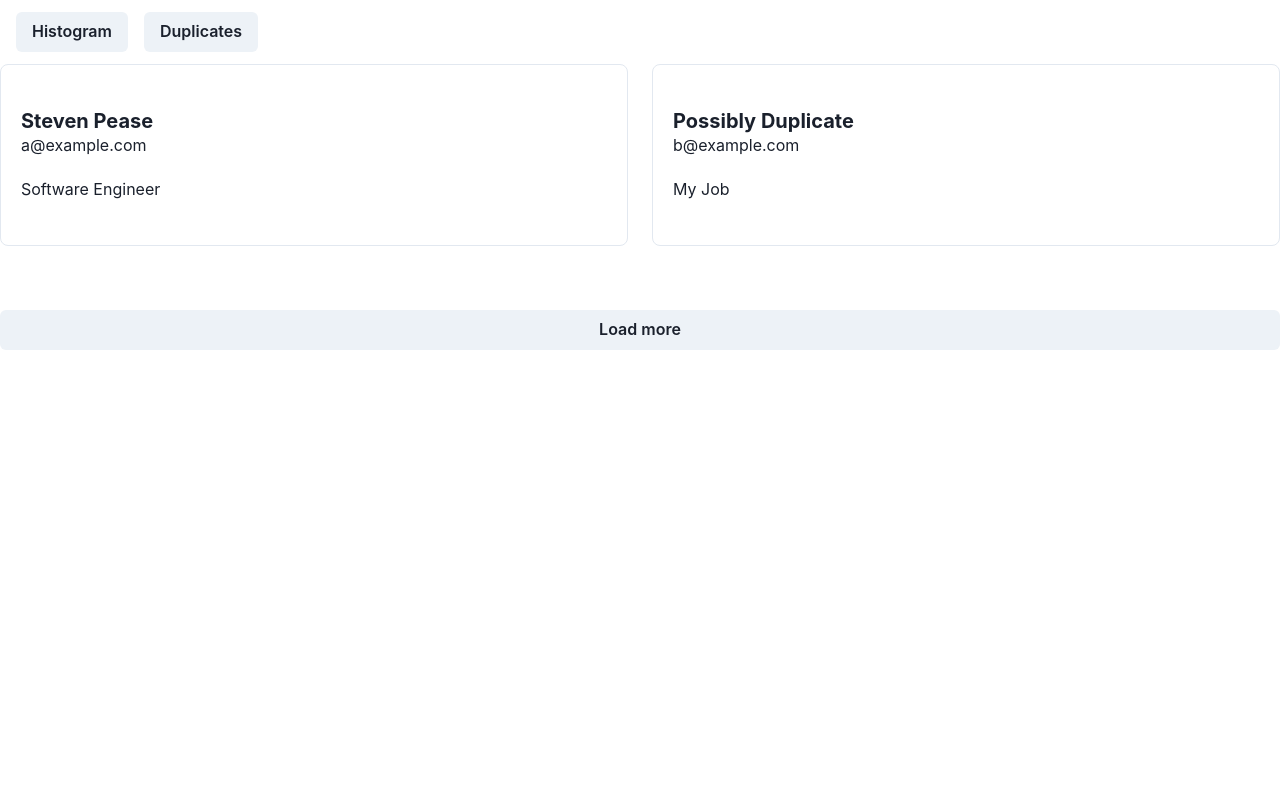
Test: App › shows duplicates
Click the button "Duplicates". click: [201, 32]
box: [144, 12, 258, 52]
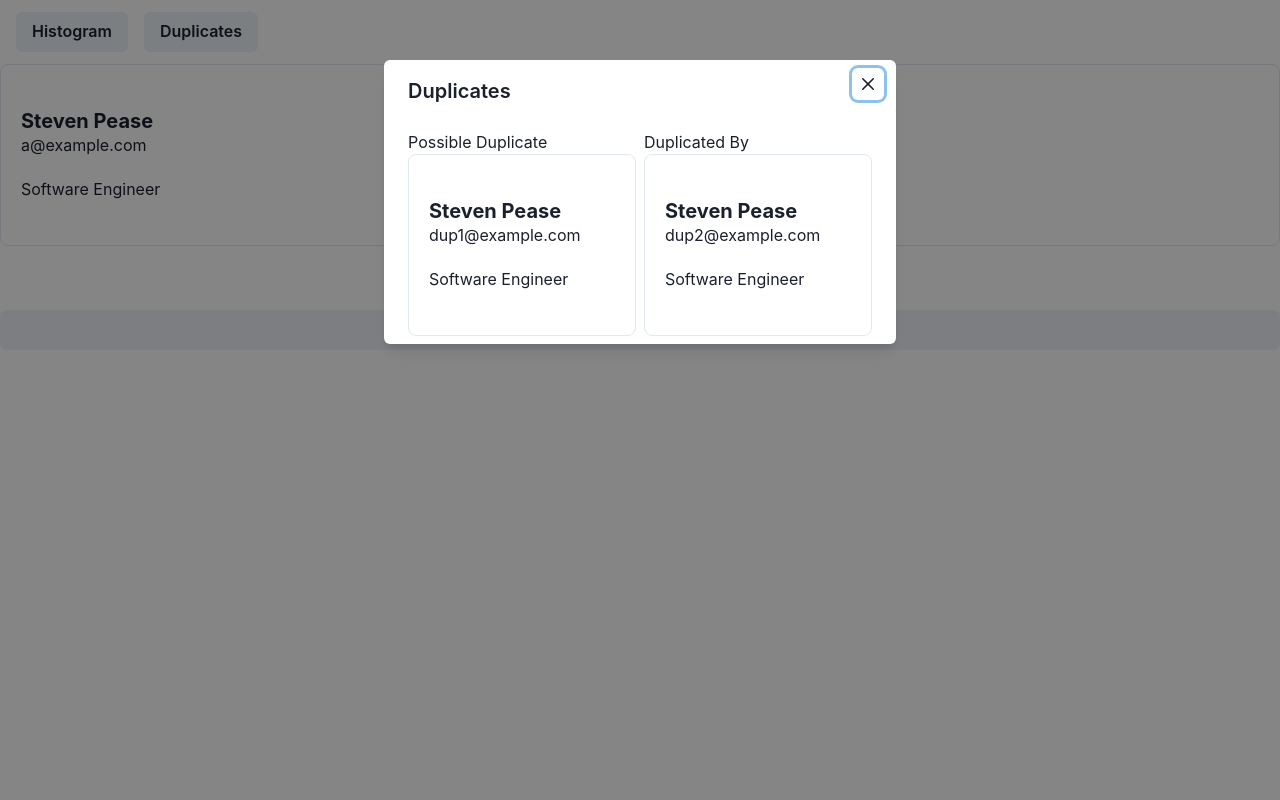
Check: the text "dup1@example.com" is shown, box [429, 225, 580, 245]
Check: the text "dup2@example.com" is shown, box [665, 225, 820, 245]
